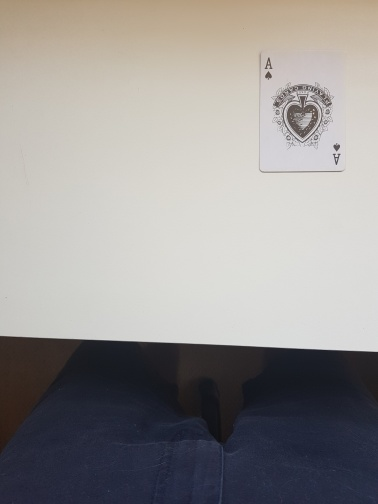ace: (256, 49, 346, 174)
